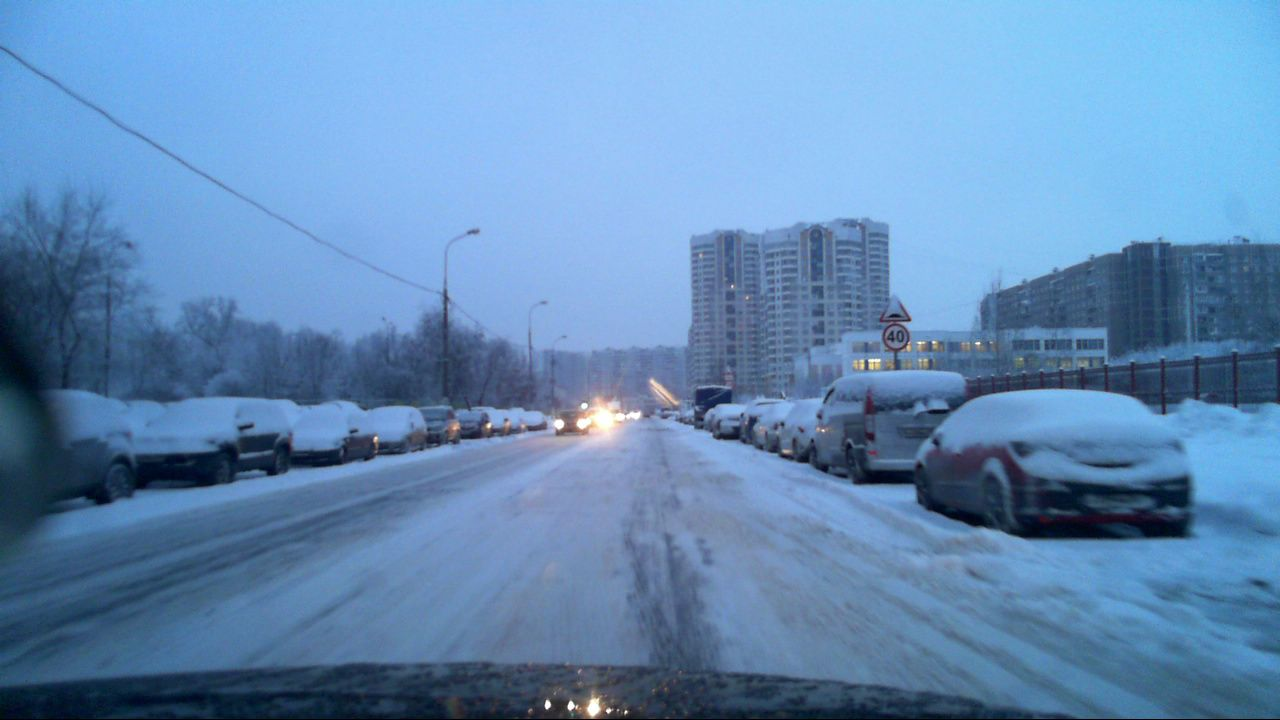speed_warning_40: (881, 325, 909, 353)
